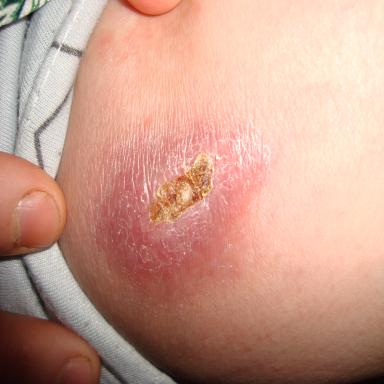Leishmanios: (97, 118, 269, 288)
